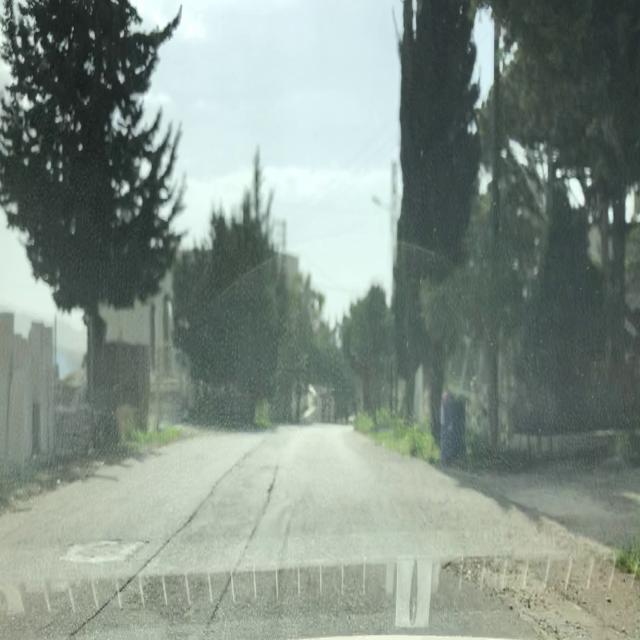Pothole: (436, 546, 640, 640)
